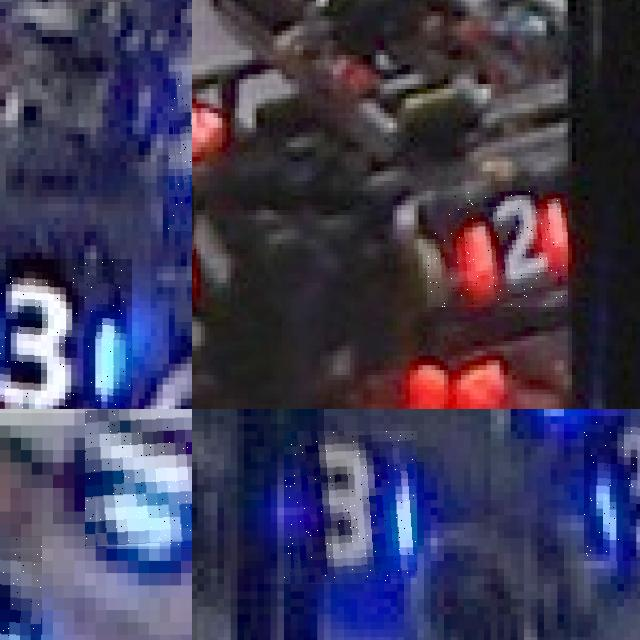B3: (284, 431, 417, 584), (0, 259, 132, 409), (583, 416, 640, 561)
B4: (85, 409, 191, 548)
R2: (427, 191, 568, 307)
